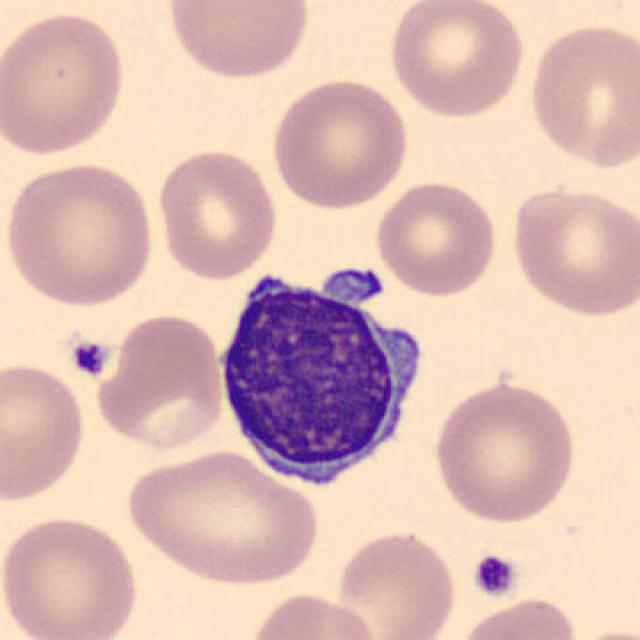Lymphocyte: (208, 258, 432, 498)
Platelets: (317, 263, 391, 305), (469, 552, 521, 601), (68, 337, 112, 379)
RBC: (121, 446, 323, 589), (2, 157, 158, 308), (428, 378, 580, 526), (266, 74, 412, 212), (0, 7, 130, 159), (96, 308, 228, 455), (0, 513, 142, 640), (507, 182, 638, 319), (524, 18, 638, 172), (153, 145, 281, 282), (384, 0, 528, 120), (372, 178, 499, 300), (330, 527, 460, 640), (0, 358, 89, 506), (160, 0, 315, 81), (246, 589, 380, 640), (450, 594, 581, 640)
